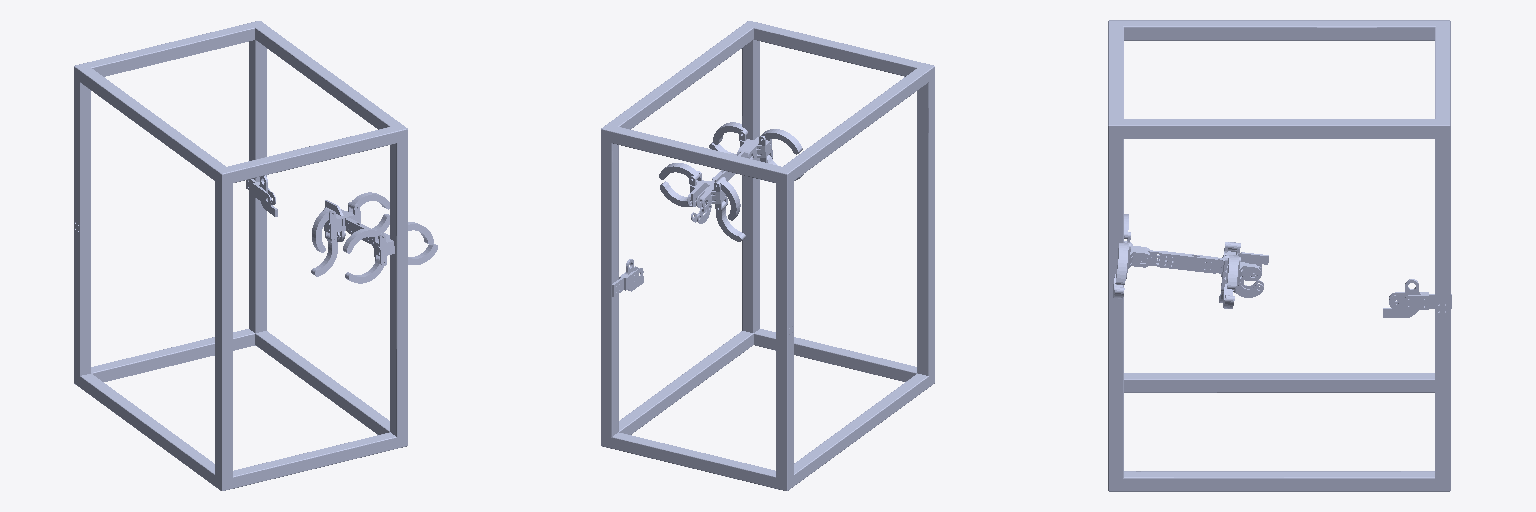
URDF robot description (tongquan_urdf):
<?xml version="1.0" encoding="utf-8"?>
<!-- This URDF was automatically created by SolidWorks to URDF Exporter! Originally created by [author] ([email redacted]) 
     Commit Version: 1.6.0-4-g7f85cfe  Build Version: 1.6.7995.38578
     For more information, please see http://wiki.ros.org/sw_urdf_exporter -->
<robot
  name="tongquan_urdf">
  <link
    name="base_link">
    <inertial>
      <origin
        xyz="-0.39275 -0.54469 -1.775E-05"
        rpy="0 0 0" />
      <mass
        value="30.277" />
      <inertia
        ixx="14.781"
        ixy="-6.7169E-06"
        ixz="1.8274E-05"
        iyy="11.964"
        iyz="-2.5631E-05"
        izz="9.8432" />
    </inertial>
    <visual>
      <origin
        xyz="0 0 0"
        rpy="0 0 0" />
      <geometry>
        <mesh
          filename="package://tongquan_urdf/meshes/base_link.STL" />
      </geometry>
      <material
        name="">
        <color
          rgba="0.79216 0.81961 0.93333 1" />
      </material>
    </visual>
    <collision>
      <origin
        xyz="0 0 0"
        rpy="0 0 0" />
      <geometry>
        <mesh
          filename="package://tongquan_urdf/meshes/base_link.STL" />
      </geometry>
    </collision>
  </link>
  <link
    name="link_1">
    <inertial>
      <origin
        xyz="-0.0447173354246999 -0.173861680238512 0.00490359022196432"
        rpy="0 0 0" />
      <mass
        value="3.09988384033343" />
      <inertia
        ixx="0.0073990239379727"
        ixy="-0.00120736061694961"
        ixz="0.000309533612822371"
        iyy="0.00253569379982232"
        iyz="-0.000102956081912359"
        izz="0.00733489139564666" />
    </inertial>
    <visual>
      <origin
        xyz="0 0 0"
        rpy="0 0 0" />
      <geometry>
        <mesh
          filename="package://tongquan_urdf/meshes/link_1.STL" />
      </geometry>
      <material
        name="">
        <color
          rgba="1 1 1 1" />
      </material>
    </visual>
    <collision>
      <origin
        xyz="0 0 0"
        rpy="0 0 0" />
      <geometry>
        <mesh
          filename="package://tongquan_urdf/meshes/link_1.STL" />
      </geometry>
    </collision>
  </link>
  <joint
    name="joint_1"
    type="continuous">
    <origin
      xyz="-0.057 -0.1735 0"
      rpy="0 1.5708 0" />
    <parent
      link="base_link" />
    <child
      link="link_1" />
    <axis
      xyz="0 0 1" />
    <limit
      lower="0"
      upper="3.142"
      effort="300"
      velocity="3" />
  </joint>
  <link
    name="link_2">
    <inertial>
      <origin
        xyz="-0.016199968374541 -0.219175022836154 0.0400412450741695"
        rpy="0 0 0" />
      <mass
        value="2.46278335843155" />
      <inertia
        ixx="0.00405079419266658"
        ixy="-1.9725480328776E-05"
        ixz="0.000200857261483451"
        iyy="0.0034119185108187"
        iyz="-3.25390165572987E-05"
        izz="0.00338161001241772" />
    </inertial>
    <visual>
      <origin
        xyz="0 0 0"
        rpy="0 0 0" />
      <geometry>
        <mesh
          filename="package://tongquan_urdf/meshes/link_2.STL" />
      </geometry>
      <material
        name="">
        <color
          rgba="0.792156862745098 0.819607843137255 0.933333333333333 1" />
      </material>
    </visual>
    <collision>
      <origin
        xyz="0 0 0"
        rpy="0 0 0" />
      <geometry>
        <mesh
          filename="package://tongquan_urdf/meshes/link_2.STL" />
      </geometry>
    </collision>
  </link>
  <joint
    name="joint_2"
    type="continuous">
    <origin
      xyz="-0.11203 -0.45851 -0.03"
      rpy="0 0 0" />
    <parent
      link="link_1" />
    <child
      link="link_2" />
    <axis
      xyz="0 0 1" />
    <limit
      lower="-1.57"
      upper="1.57"
      effort="200"
      velocity="3" />
  </joint>
</robot>

--- Facts derived from the render (not from the file) ---
3 views of the same robot in one strip: view 1: azimuth 30°, elevation 25°; view 2: azimuth 150°, elevation 25°; view 3: azimuth 270°, elevation 25° (orthographic).
Robot: tongquan_urdf — 3 links, 2 joints (2 continuous); root link base_link; default pose: all joints at 0.
Links seen in each view (by area): view 1: base_link, link_2; view 2: base_link, link_2; view 3: base_link, link_2.
Link boxes in pixels (x1,y1,x2,y2): base_link: (74,21,407,490); link_2: (311,192,437,283); base_link: (601,21,934,490); link_2: (659,122,803,241); base_link: (1108,20,1451,491); link_2: (1112,214,1268,308).
Size in the robot's own frame: 0.9481 by 1.1 by 1.3 metres.
Meshes: 3 distinct files referenced, 2 mesh visuals loaded (2 binary STL); not drawn: 1 (reference not matched to a file when rendering).
